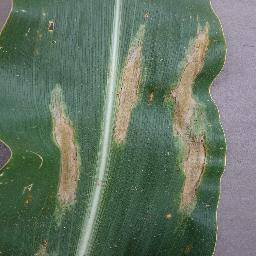Corn_Blight: (166, 73, 206, 219), (111, 13, 152, 146), (47, 80, 83, 226), (211, 131, 229, 256), (177, 18, 212, 72), (217, 20, 233, 129), (31, 238, 66, 256), (22, 180, 38, 211), (43, 13, 57, 37), (183, 240, 196, 254)
